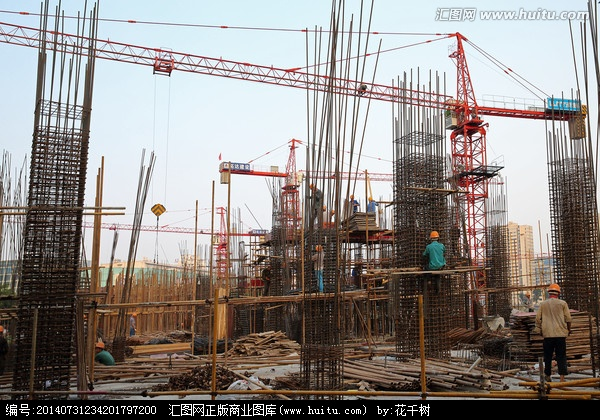none: (267, 264, 272, 270)
yellow: (545, 282, 561, 300), (428, 229, 440, 243), (95, 341, 105, 353), (315, 244, 323, 252), (310, 182, 317, 191), (130, 311, 137, 318), (525, 291, 531, 298), (330, 208, 335, 216), (367, 196, 373, 202), (322, 204, 326, 211), (350, 194, 354, 199)
